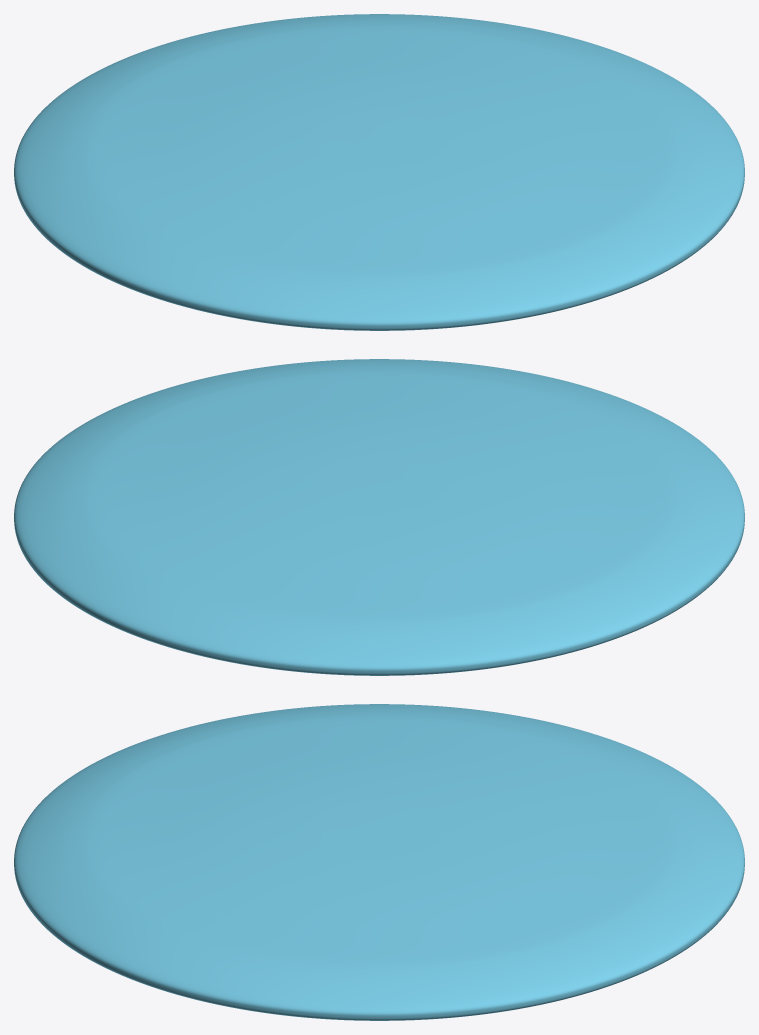
Rendered from frizbee.fbx.
3 renders of one model, top to bottom at view 1: azimuth 30°, elevation 25°; view 2: azimuth 150°, elevation 25°; view 3: azimuth 270°, elevation 25°, orthographic.
Visible parts, largest first — view 1: D1 Disc; view 2: D1 Disc; view 3: D1 Disc.
Part boxes in pixels (left/top/right/bottom): D1 Disc: left=14, top=14, right=744, bottom=330; D1 Disc: left=14, top=359, right=744, bottom=675; D1 Disc: left=14, top=704, right=744, bottom=1020.
Size of the model in its own units: 457 by 38.39 by 457.
